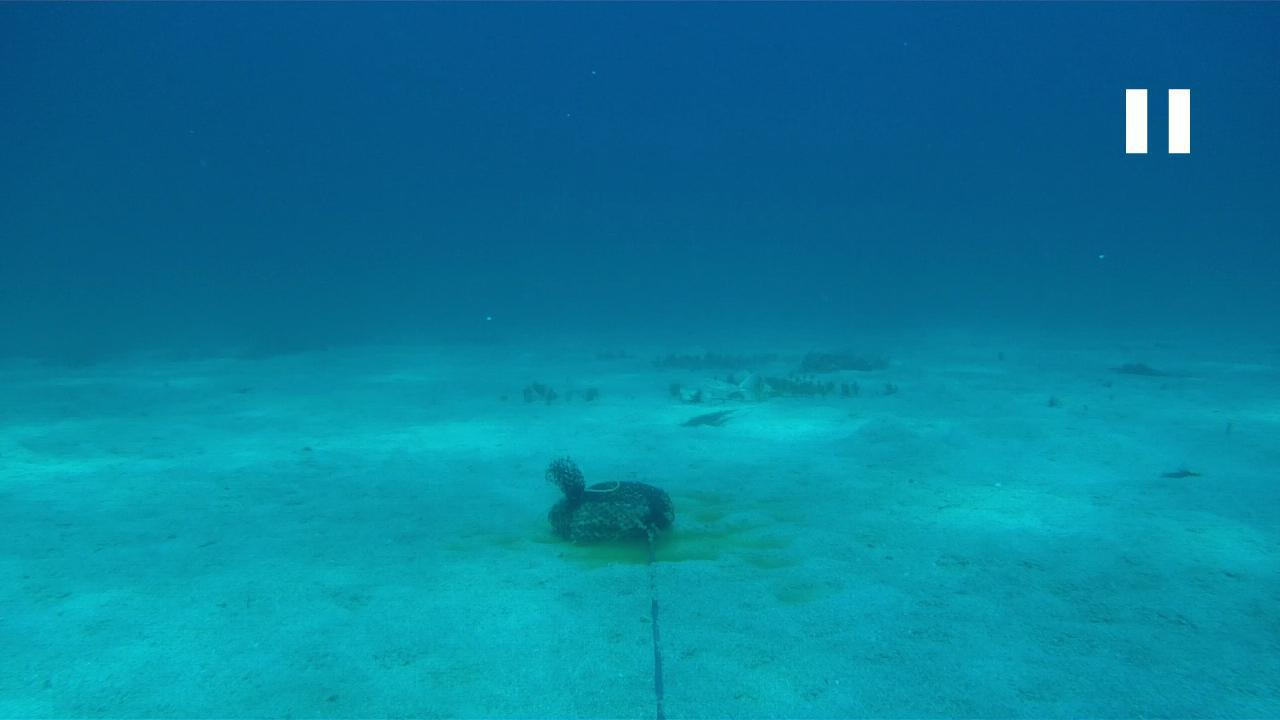bothus: (1152, 462, 1206, 485)
